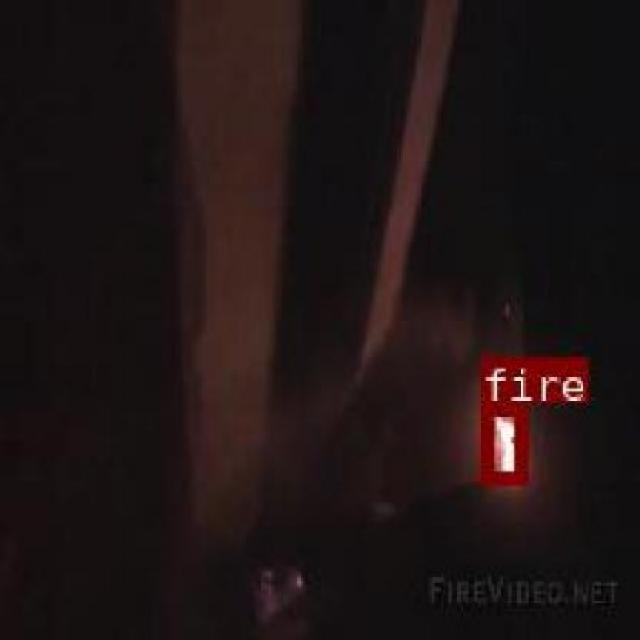Fire: (48, 80, 502, 442)
